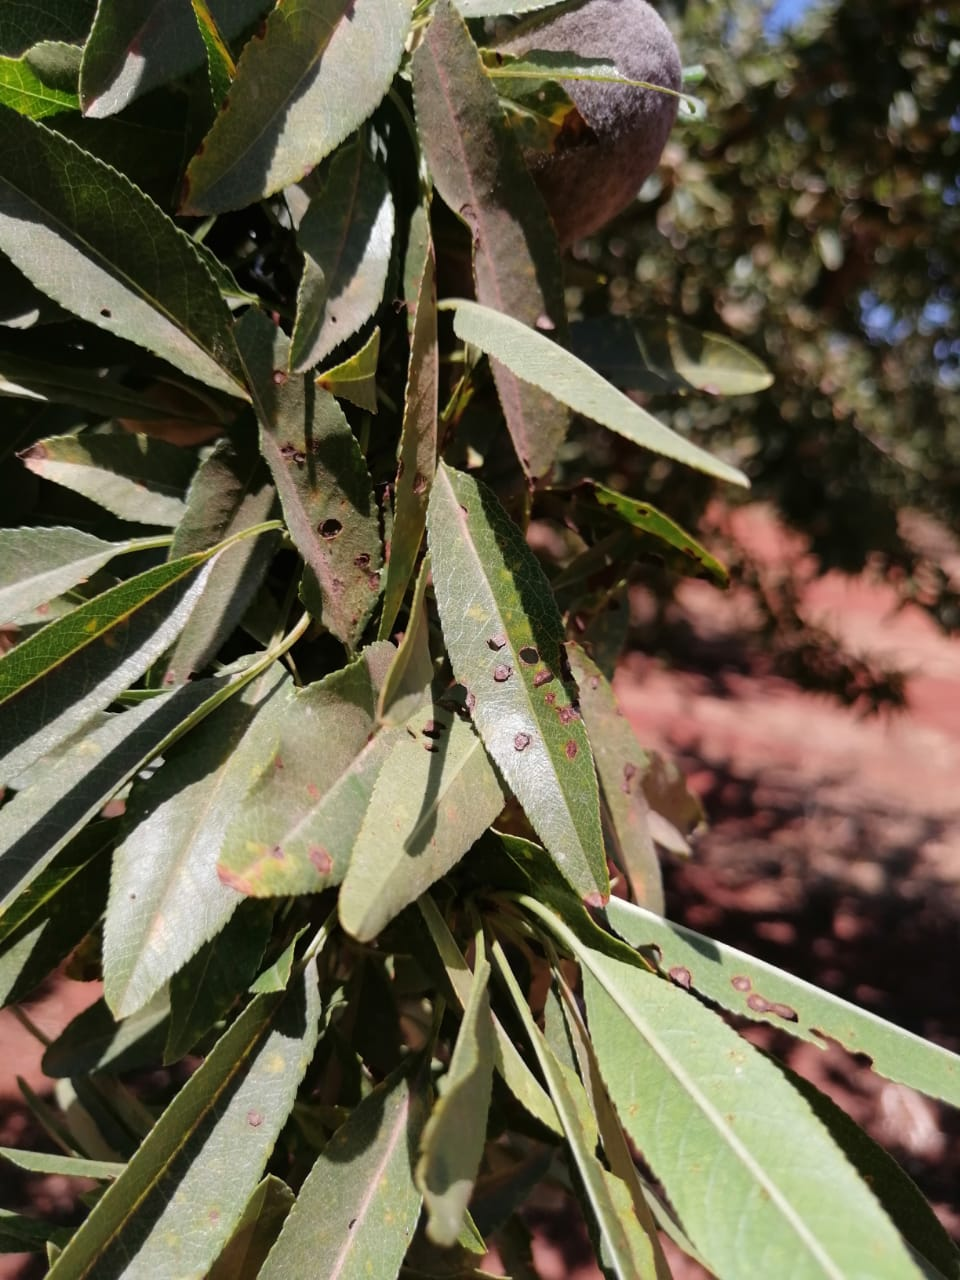coryneum: (425, 452, 615, 913), (607, 891, 960, 1102), (224, 303, 387, 653), (213, 638, 426, 904)
